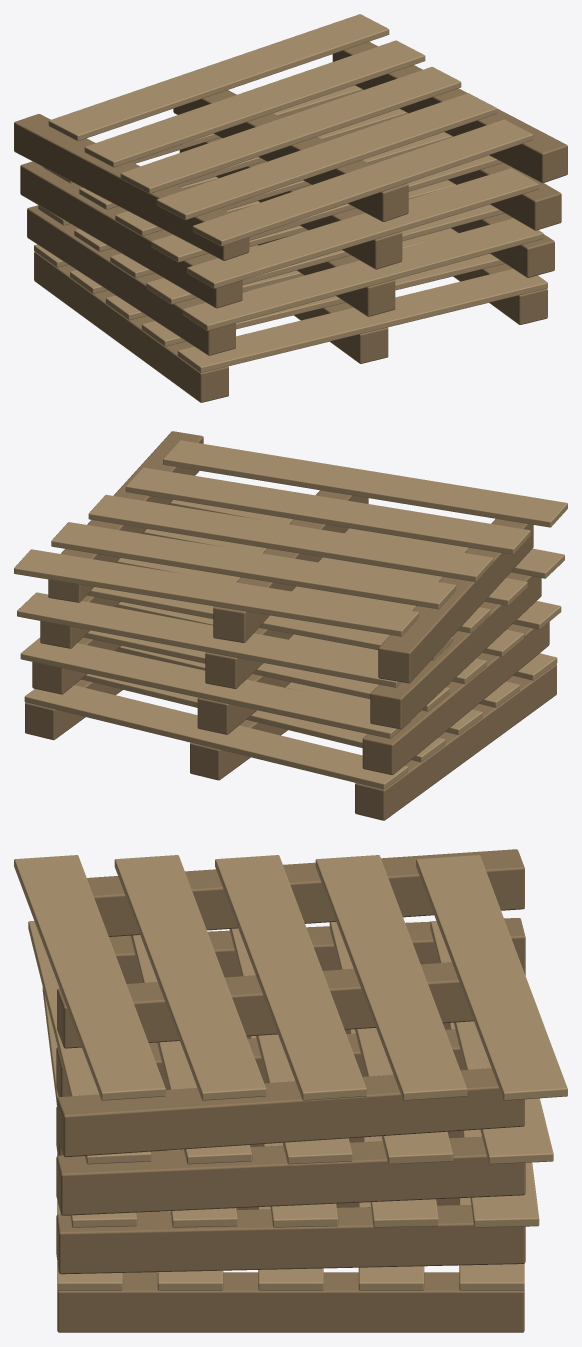
The model's file is pallets.glb.
3 views of the same model, one above another, from view 1: azimuth 30°, elevation 25°; view 2: azimuth 150°, elevation 25°; view 3: azimuth 270°, elevation 25° (orthographic). The views are drawn at different scales.
Parts seen in each view (by area): view 1: Slat.017, Slat.016, Slat.018, Slat.015, Slat.019, Slat.010, Slat.005, Slat, Block.009, Block.006, Block.003, Block (+16 smaller); view 2: Slat.018, Slat.016, Slat.017, Slat.015, Slat.019, Slat.014, Slat.004, Slat.009, Block, Block.003, Block.009, Block.006 (+20 smaller); view 3: Block.011, Block.008, Block.005, Block.002, Slat.016, Slat.018, Slat.015, Slat.017, Slat.019, Block.009, Block.010, Slat.014 (+16 smaller).
Part boxes in pixels (<box>): Slat.017: <box>120,67,461,193</box>; Slat.016: <box>156,93,497,219</box>; Slat.018: <box>84,40,425,167</box>; Slat.015: <box>192,119,533,246</box>; Slat.019: <box>48,14,389,140</box>; Slat.010: <box>187,168,538,288</box>; Slat.005: <box>182,218,543,330</box>; Slat: <box>177,269,547,372</box>; Block.009: <box>14,114,249,260</box>; Block.006: <box>20,161,242,308</box>; Block.003: <box>27,205,235,355</box>; Block: <box>34,251,228,402</box>; Slat.018: <box>51,522,456,609</box>; Slat.016: <box>125,467,530,554</box>; Slat.017: <box>88,494,493,581</box>; Slat.015: <box>163,440,567,527</box>; Slat.019: <box>14,549,418,636</box>; Slat.014: <box>17,592,401,687</box>; Slat.004: <box>24,685,408,789</box>; Slat.009: <box>20,637,412,738</box>; Block: <box>355,664,556,820</box>; Block.003: <box>362,622,549,774</box>; Block.009: <box>378,519,533,683</box>; Block.006: <box>370,572,541,729</box>; Block.011: <box>57,1068,524,1157</box>; Block.008: <box>56,1136,525,1215</box>; Block.005: <box>56,1205,525,1274</box>; Block.002: <box>57,1272,524,1332</box>; Slat.016: <box>114,855,266,1100</box>; Slat.018: <box>315,855,467,1100</box>; Slat.015: <box>14,855,165,1100</box>; Slat.017: <box>215,855,366,1100</box>; Slat.019: <box>416,855,567,1100</box>; Block.009: <box>87,849,524,936</box>; Block.010: <box>57,962,473,1048</box>; Slat.014: <box>430,921,553,1164</box>.
Size of the model in its own units: 1.35 by 0.57 by 1.19.
